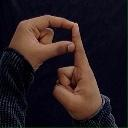hand: (52, 23, 104, 120), (9, 15, 75, 67)
